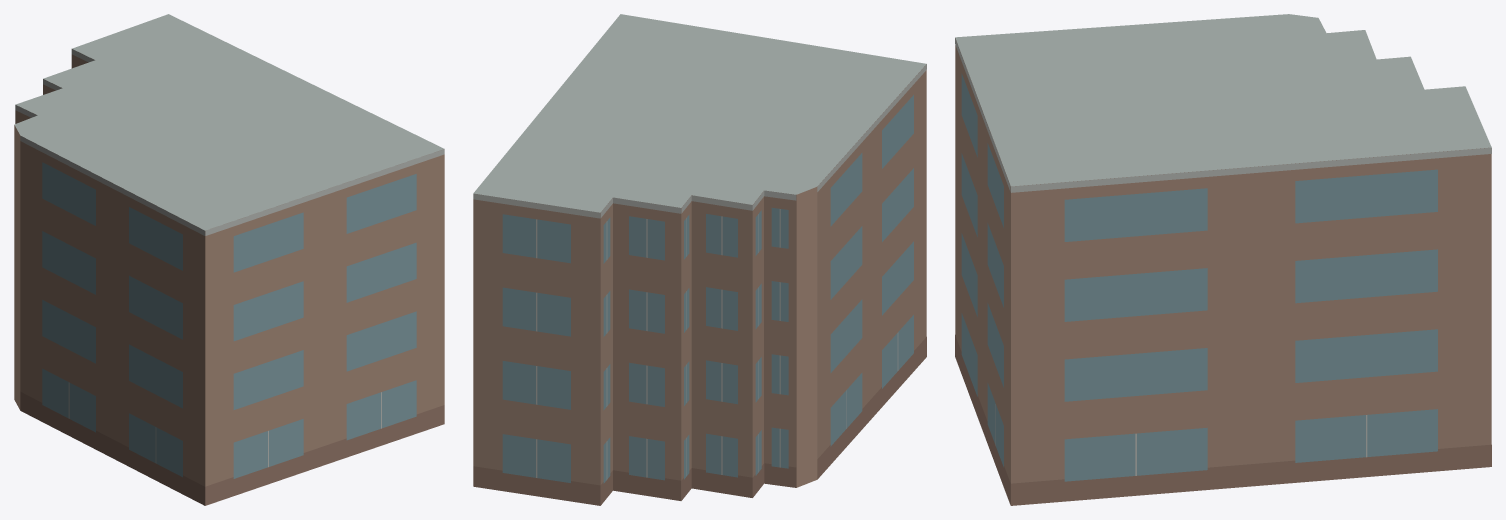
Rendered from survey-upis-32768442.glb.
The picture shows the model from 3 angles, left to right: view 1: azimuth 30°, elevation 25°; view 2: azimuth 150°, elevation 25°; view 3: azimuth 270°, elevation 25°; orthographic projection. The views are drawn at different scales.
Visible parts, largest first — view 1: survey-upis-32768442.tmp; view 2: survey-upis-32768442.tmp; view 3: survey-upis-32768442.tmp.
Part boxes in pixels (x1,y1,x2,y2): survey-upis-32768442.tmp: [14, 14, 444, 505]; survey-upis-32768442.tmp: [473, 14, 926, 505]; survey-upis-32768442.tmp: [955, 14, 1491, 505].
Bounding box in the file's own units: 14.14 × 12.2 × 18.59.
